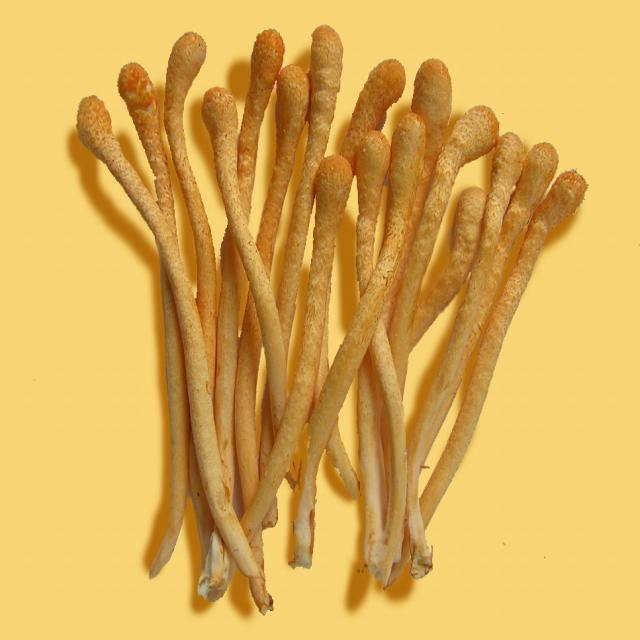Cordyceps militaris: (80, 26, 587, 603)
